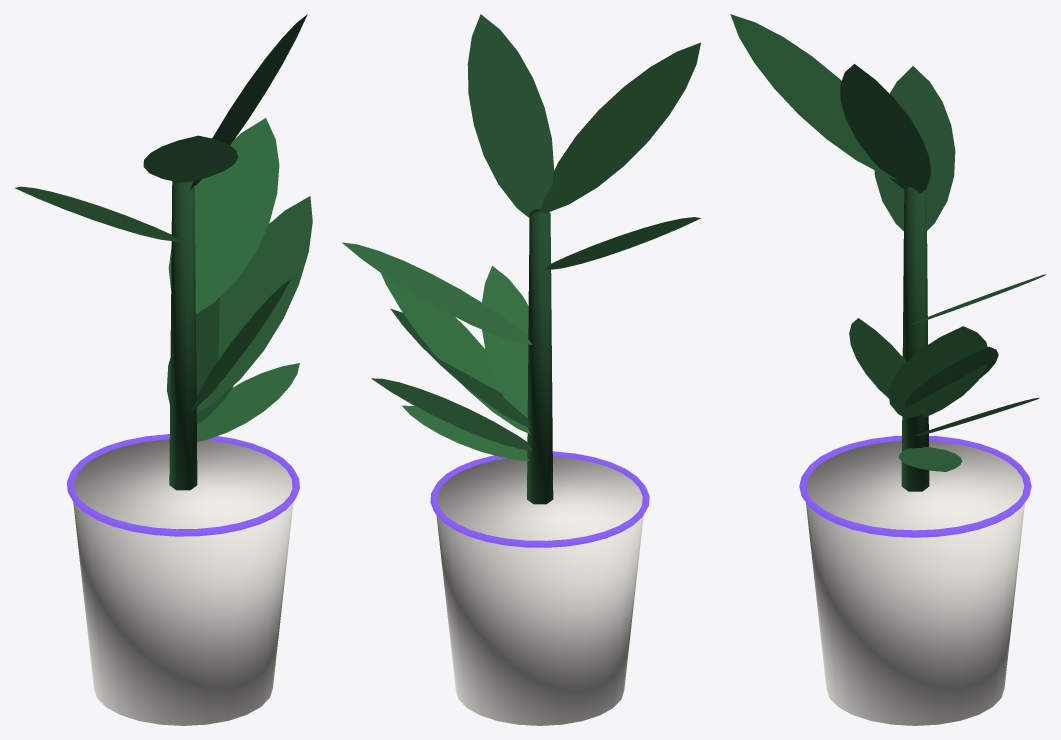
File: Deco_Plant_Small.gltf
3 renders of one model, left to right at view 1: azimuth 30°, elevation 25°; view 2: azimuth 150°, elevation 25°; view 3: azimuth 270°, elevation 25°, orthographic. The views are drawn at different scales.
Parts seen in each view (by area): view 1: Deco_Plant_Small; view 2: Deco_Plant_Small; view 3: Deco_Plant_Small.
Boxes of the visible parts, x1,y1,x2,y2 form: Deco_Plant_Small: (15, 14, 312, 725); Deco_Plant_Small: (342, 14, 700, 725); Deco_Plant_Small: (730, 14, 1046, 725).
Bounding box in the file's own units: 0.1989 × 0.3984 × 0.1705.
